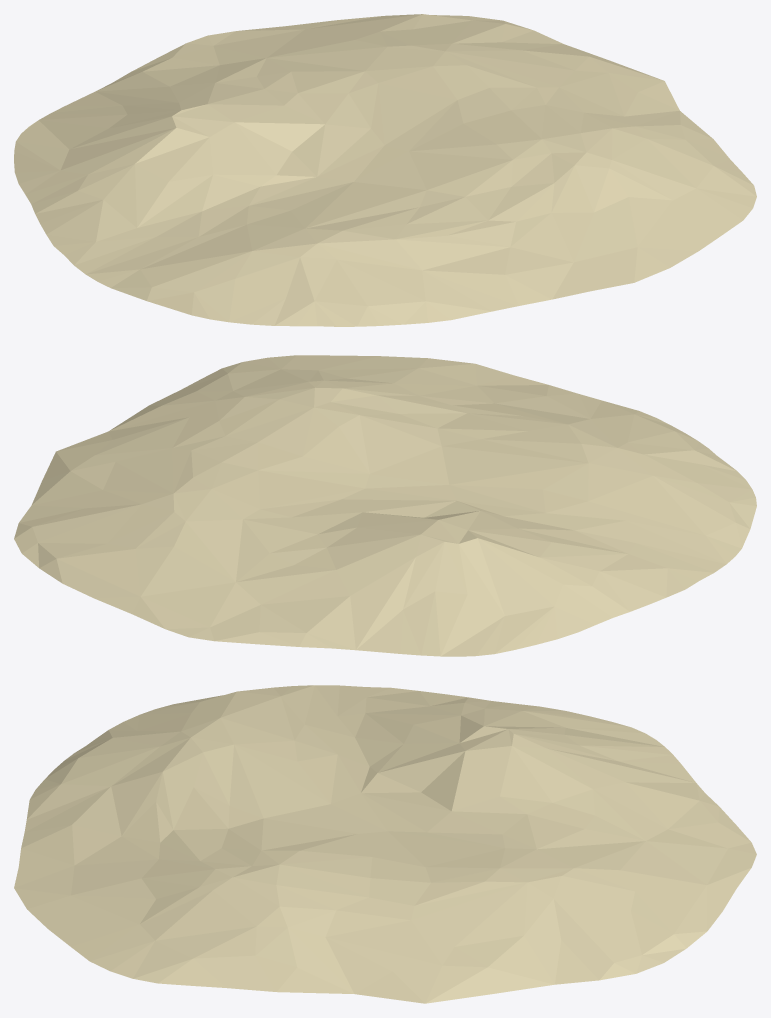
Rendered from Arena-2.FBX.
3 renders of one model, top to bottom at view 1: azimuth 30°, elevation 25°; view 2: azimuth 150°, elevation 25°; view 3: azimuth 270°, elevation 25°, orthographic. The views are drawn at different scales.
Size of the model in its own units: 84.87 by 6.06 by 83.67.
1 material, 1 textured.
